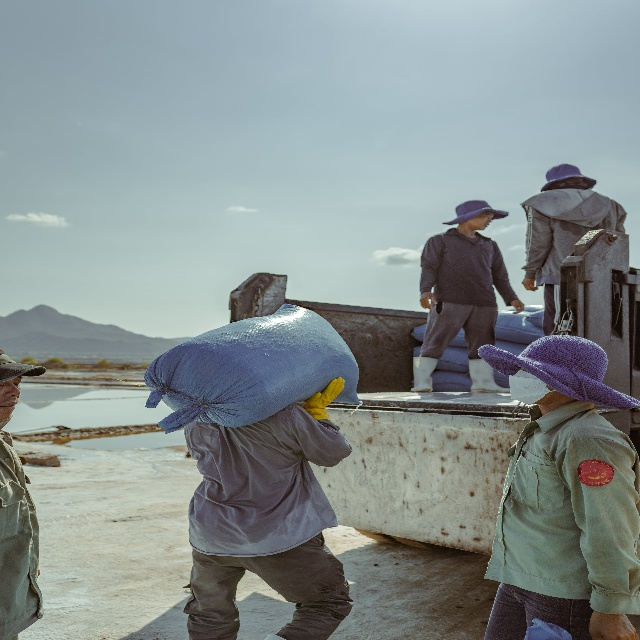Guantes: (301, 377, 345, 422)
Mascara: (508, 367, 556, 407)
Sin_guantes: (589, 608, 639, 640), (420, 291, 437, 311), (521, 277, 539, 291), (510, 299, 524, 314)
